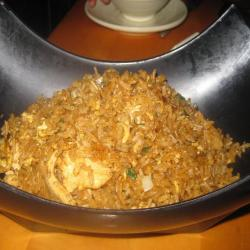rice: (3, 61, 246, 213)
